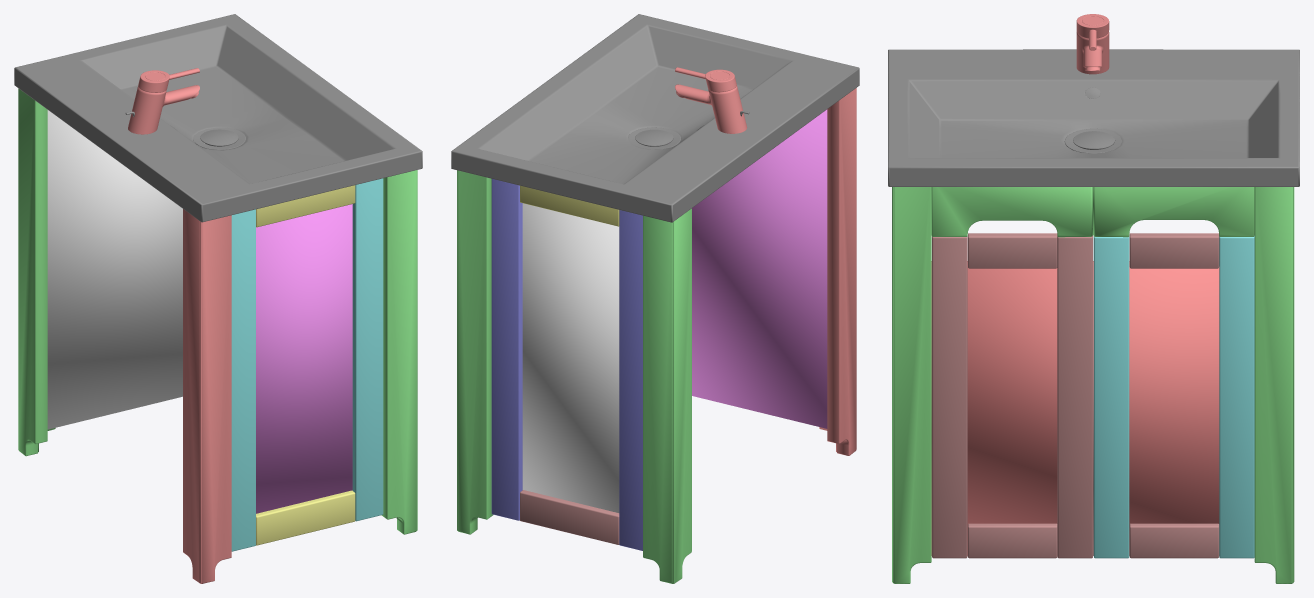
File: sink.gltf
3 renders of one model, left to right at view 1: azimuth 30°, elevation 25°; view 2: azimuth 150°, elevation 25°; view 3: azimuth 270°, elevation 25°, orthographic. The views are drawn at different scales.
Visible parts, largest first — view 1: sink; view 2: sink; view 3: sink.
Part boxes in pixels (left/top/right/bottom): sink: left=14, top=14, right=422, bottom=583; sink: left=451, top=14, right=859, bottom=583; sink: left=888, top=14, right=1299, bottom=583.
Size of the model in its own units: 0.8344 by 1.55 by 1.23.
